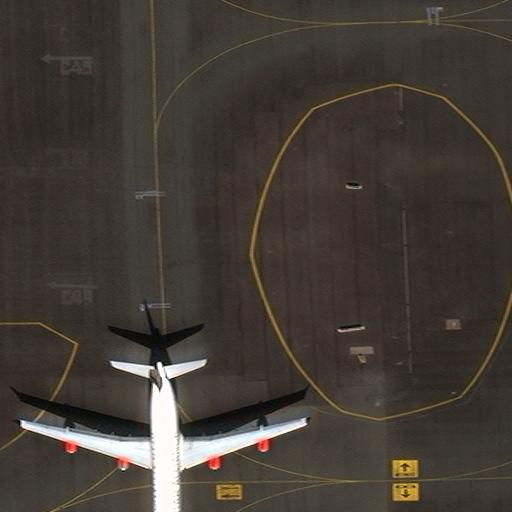Large Civil Transport: (21, 361, 307, 511)
